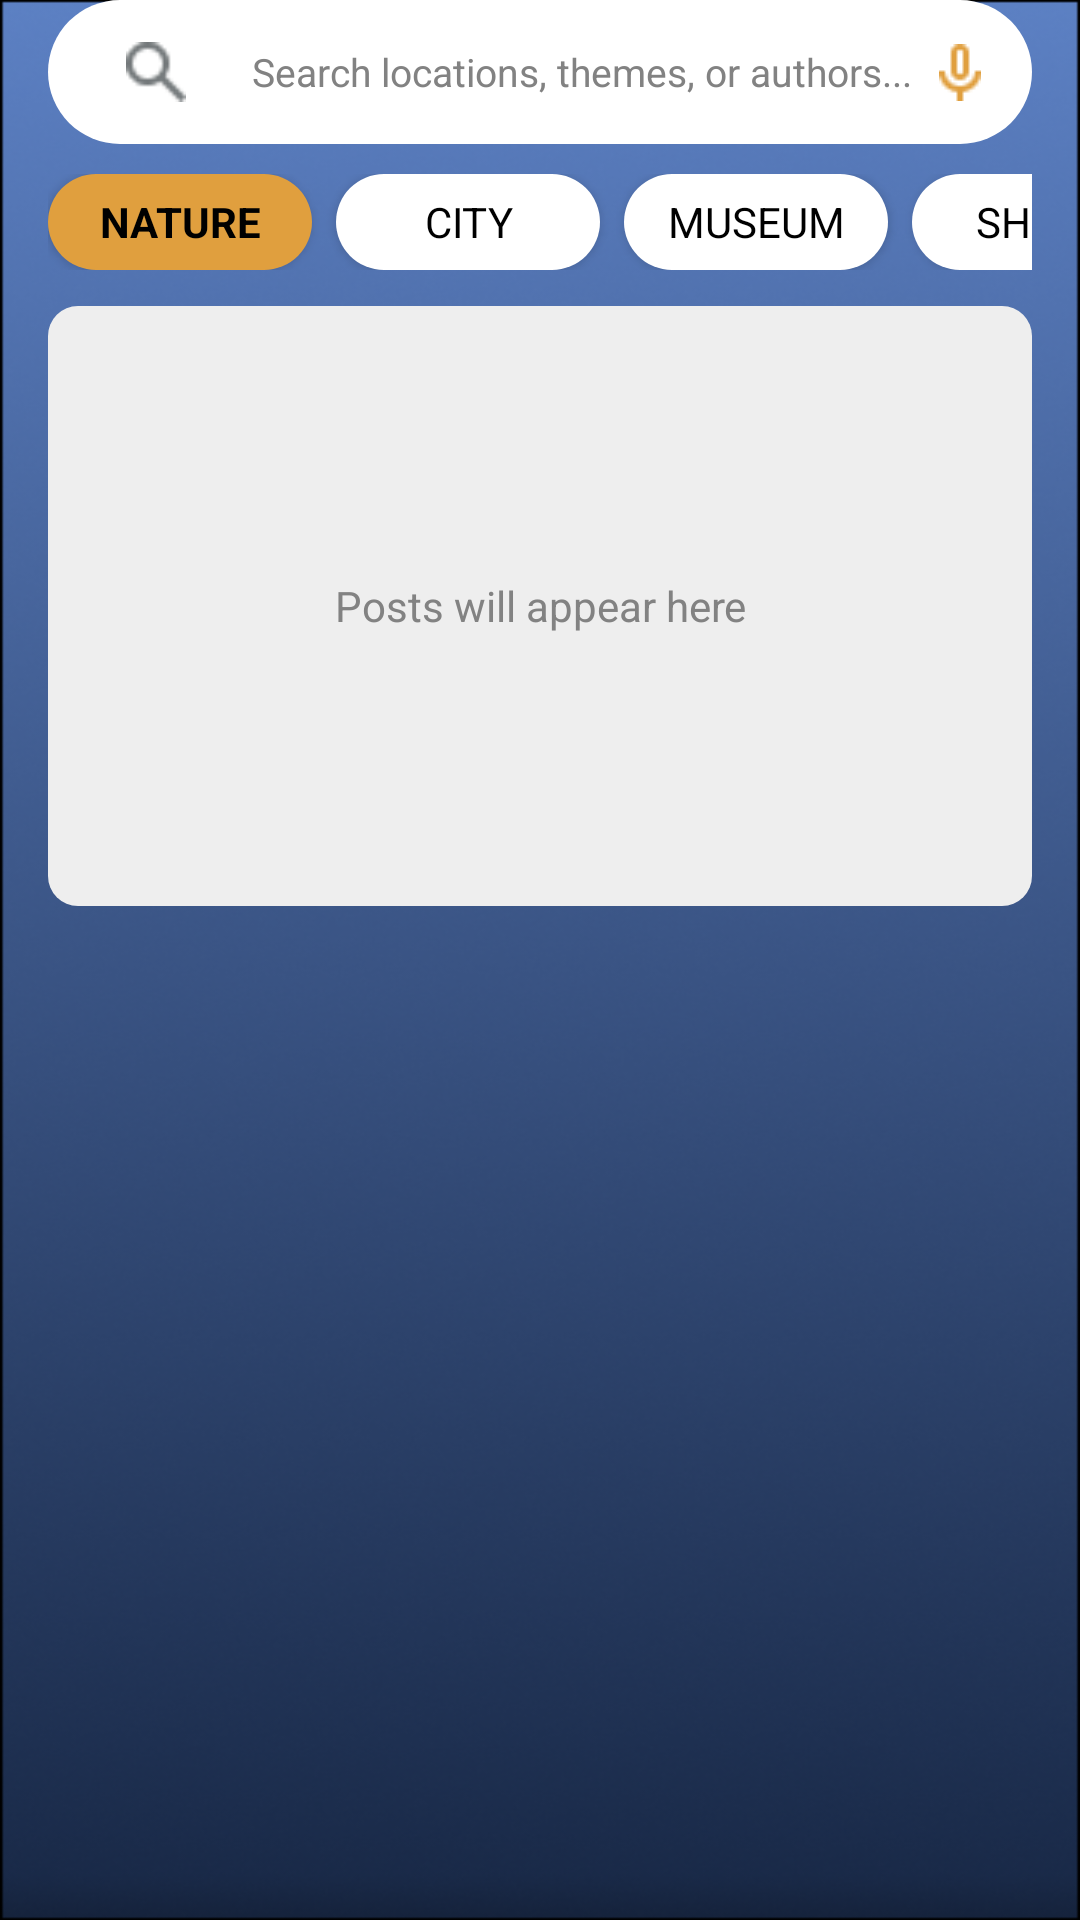

Named icons in this screenshot (1080px x 1920px) and their bounding boxes, (x1, y1, x2, y2):
Voice search: (939, 44, 981, 101)
